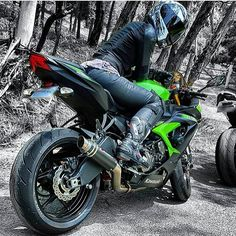helmet: (147, 4, 191, 44)
